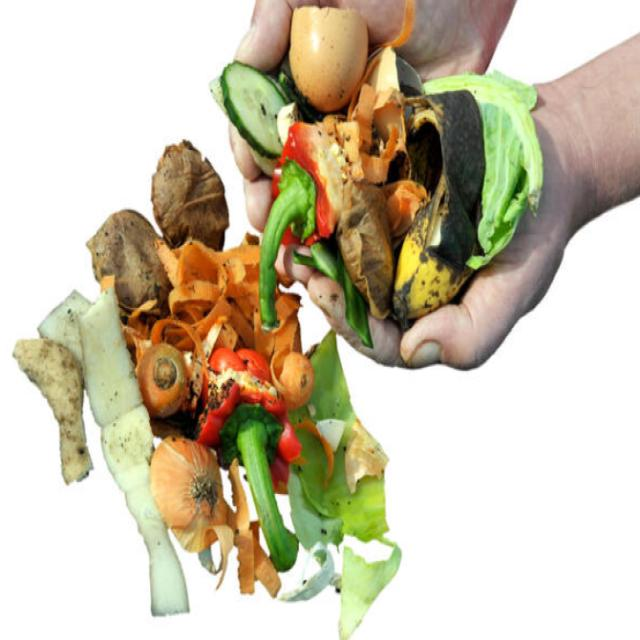paper: (217, 398, 313, 564), (289, 0, 377, 122), (202, 47, 294, 160), (149, 428, 228, 524), (131, 330, 193, 406)
